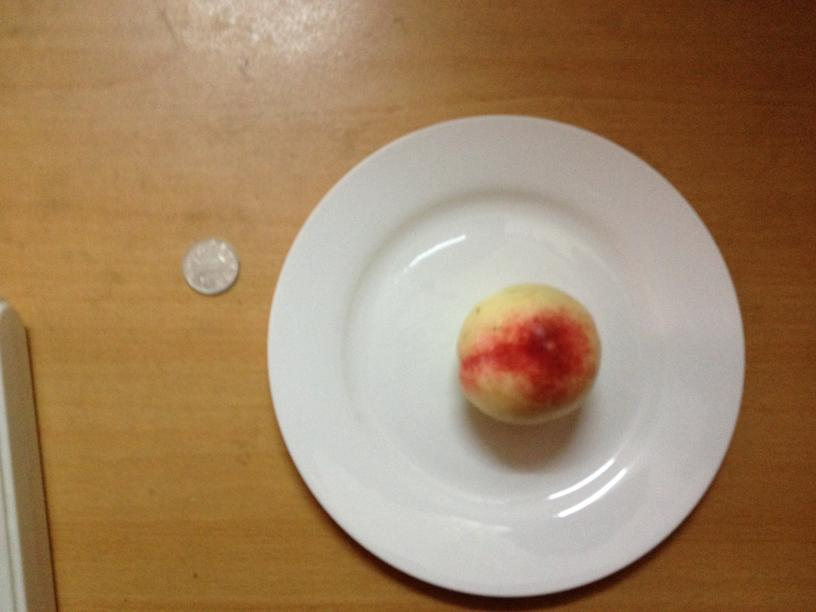coin: (180, 237, 239, 292)
peach: (459, 284, 600, 425)
